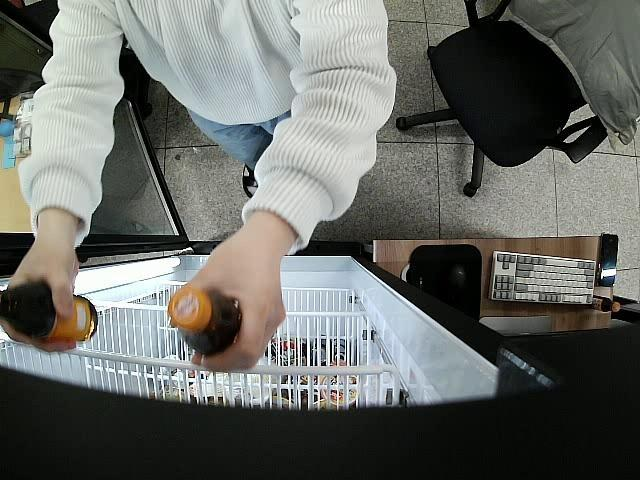17_vita500: (0, 279, 99, 343), (168, 286, 240, 354)
